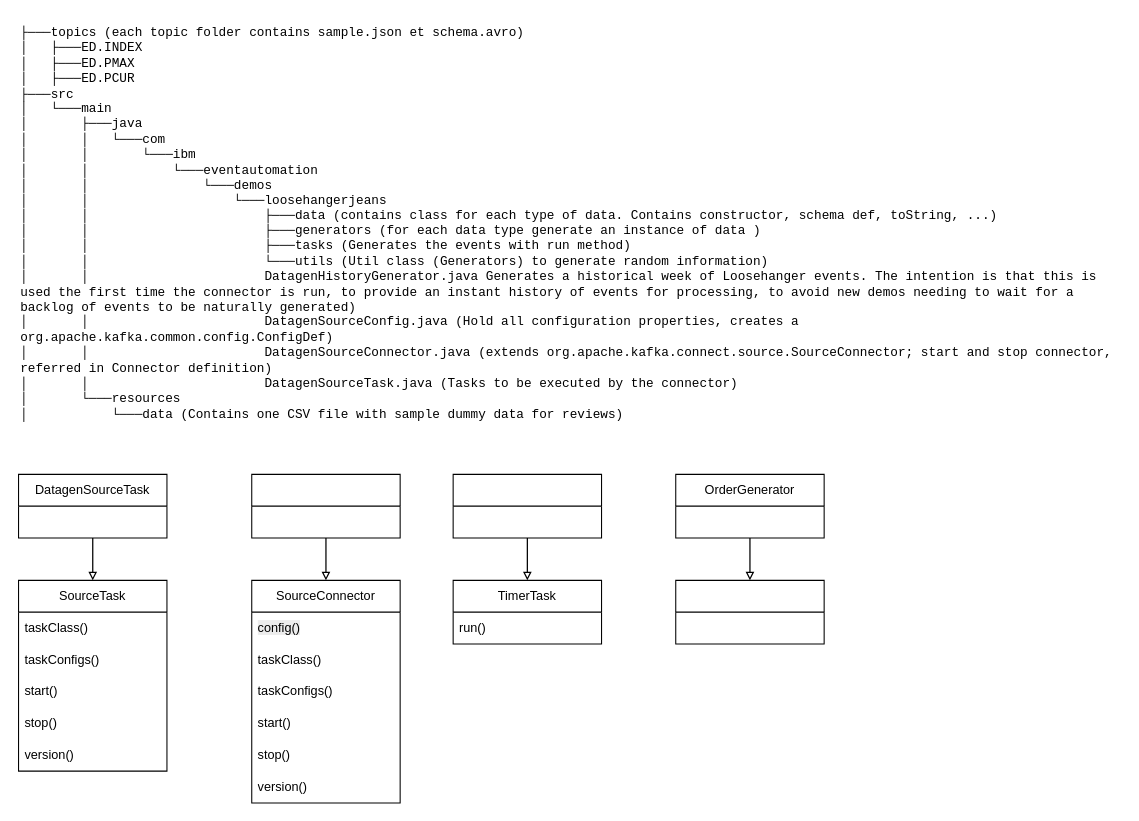
Some shapes in this 1139 by 821 pixel diagram are drawn without their labels. The centre of each missing label's shape, as x and y in pixels:
"DatagenSourceConnector" goes at [325,505].
"Generator" goes at [749,611].
"OnlineOrdersTask" goes at [527,505].
